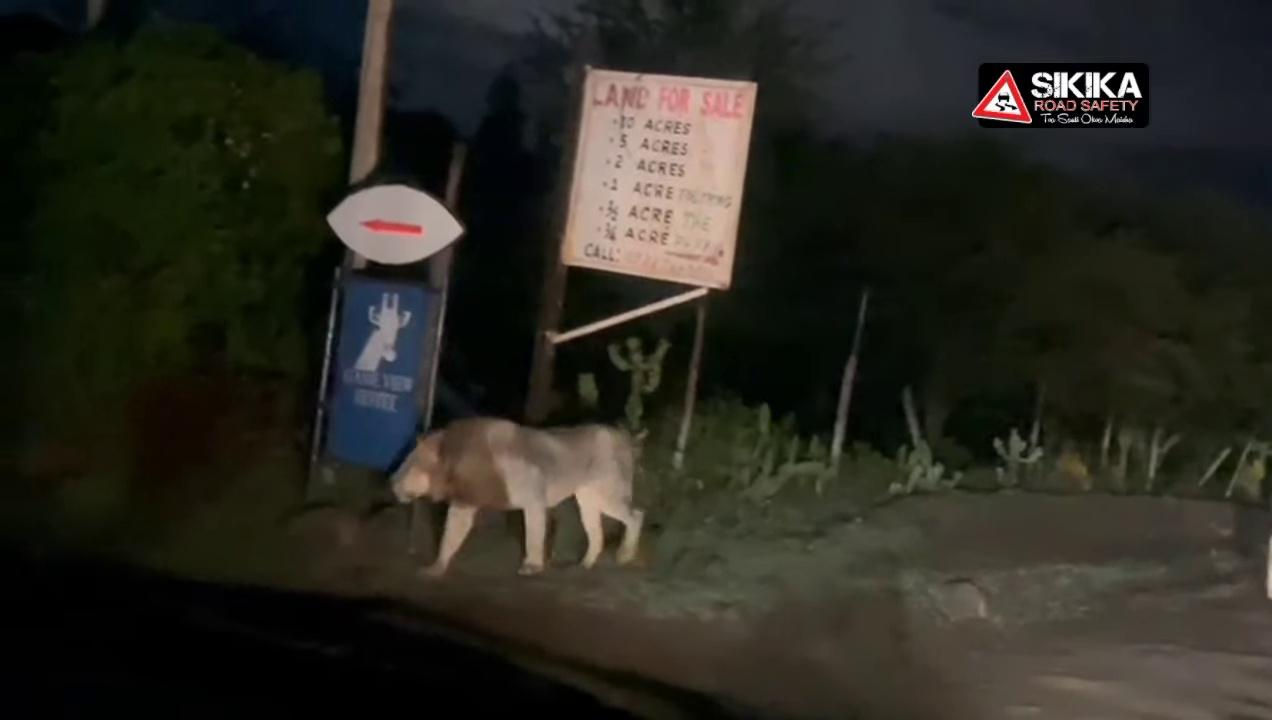lions: (388, 399, 665, 580)
